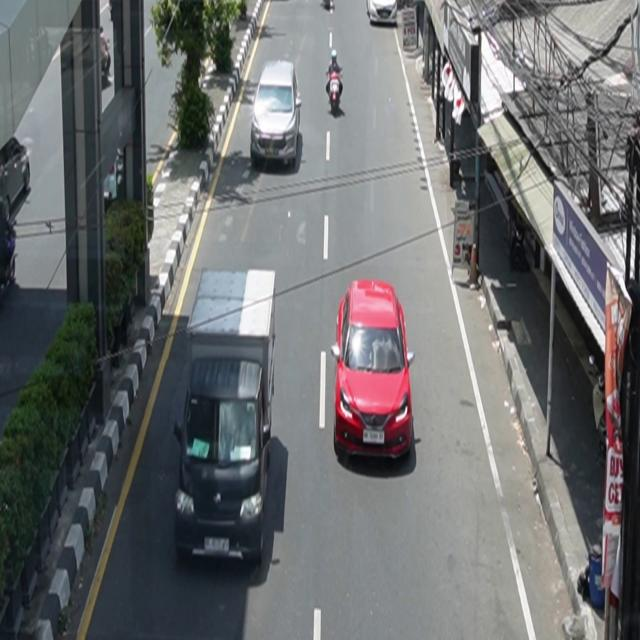car: (332, 280, 416, 463), (251, 60, 303, 169), (367, 1, 398, 26)
truck: (174, 267, 277, 567)
